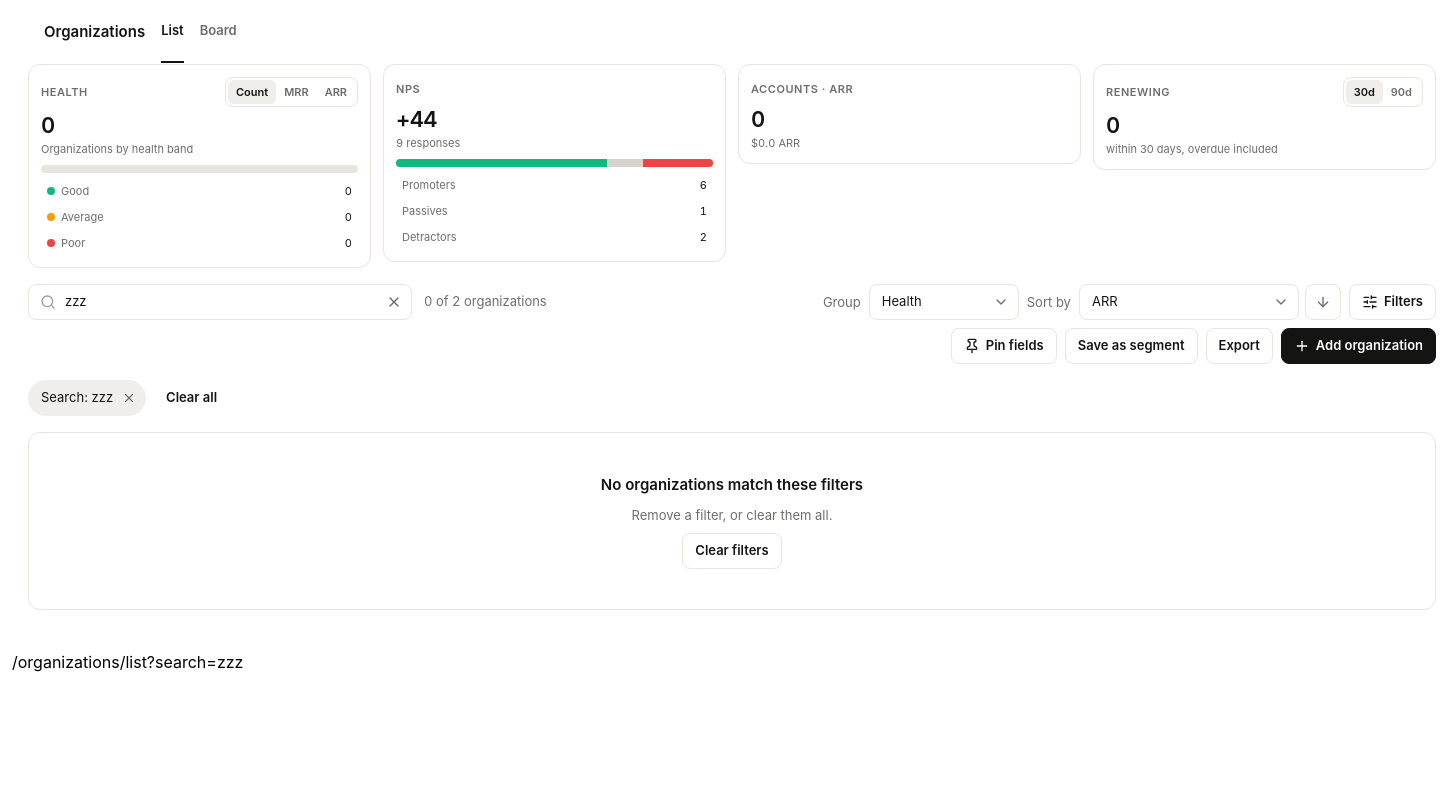
Scenario: Organizations list (portfolio) › shows the designed empty state and clears filters from it
Expected: the text "No organizations match these filters" is shown, x1=601 y1=473 x2=863 y2=497
Click the button "Clear filters". click: (732, 551)
box: x1=682 y1=533 x2=782 y2=569
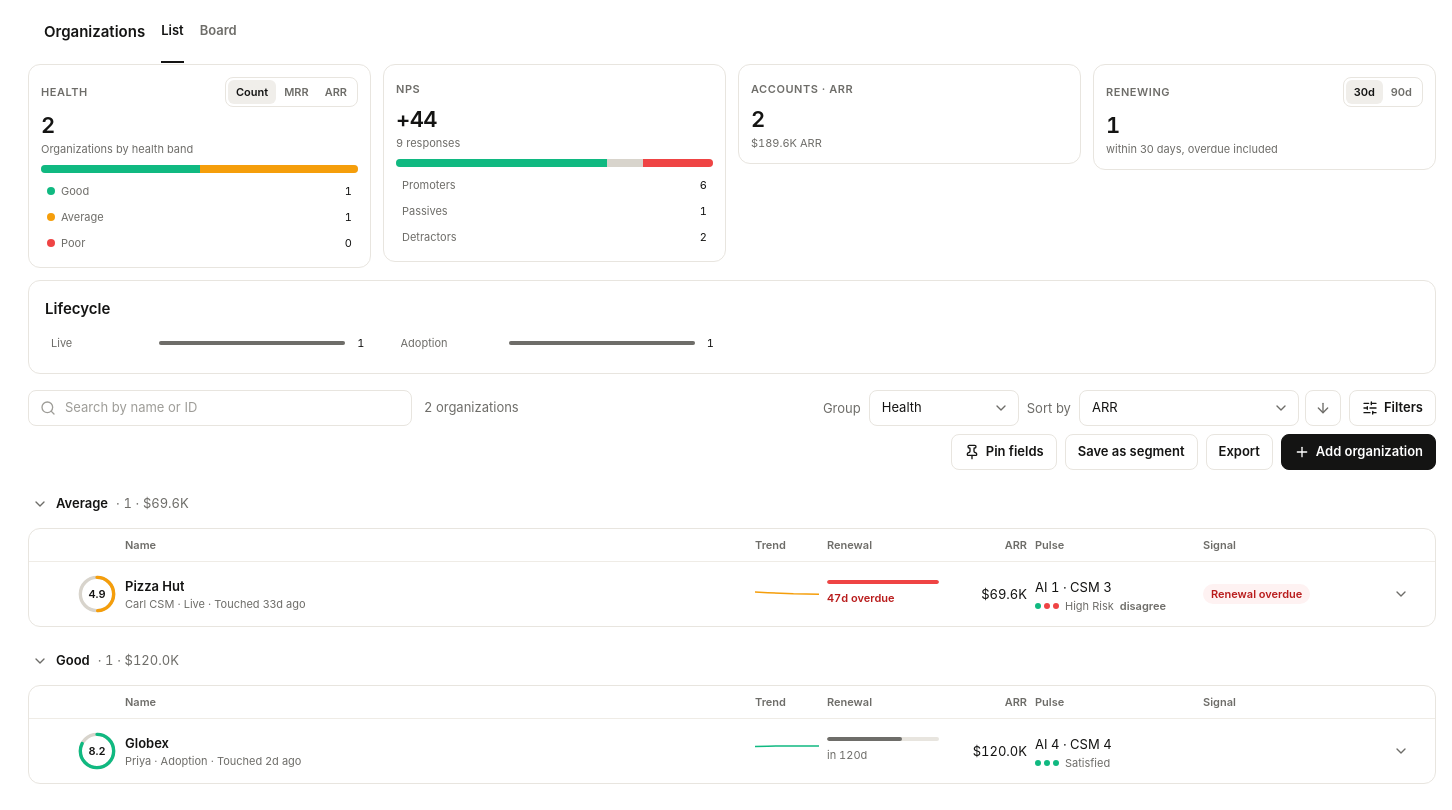
Now the link "Pizza Hut" is shown, box x1=125 y1=576 x2=184 y2=596
